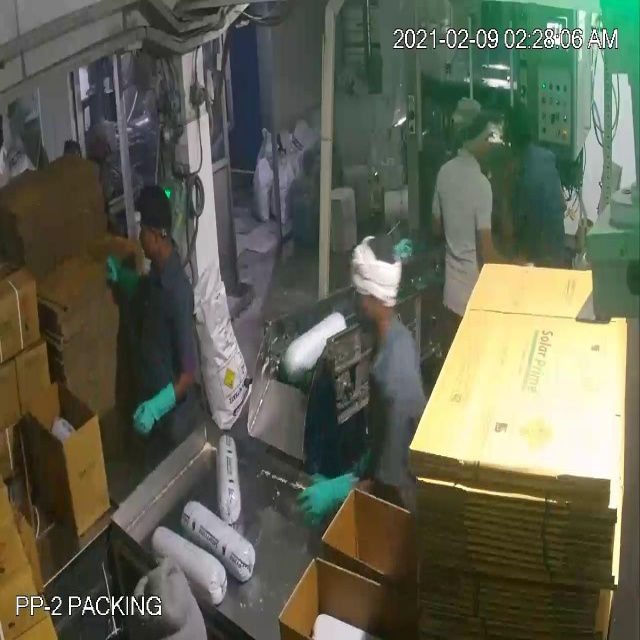Guantes: (287, 441, 376, 540), (122, 379, 190, 443), (98, 238, 151, 309)
